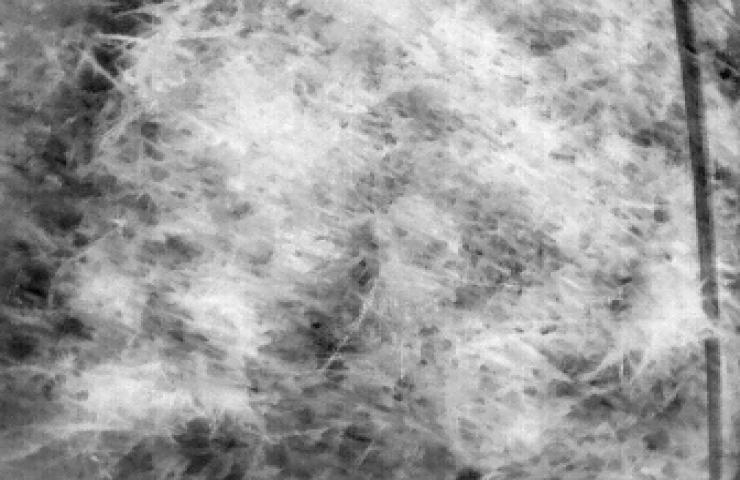landmines: (263, 226, 342, 280)
